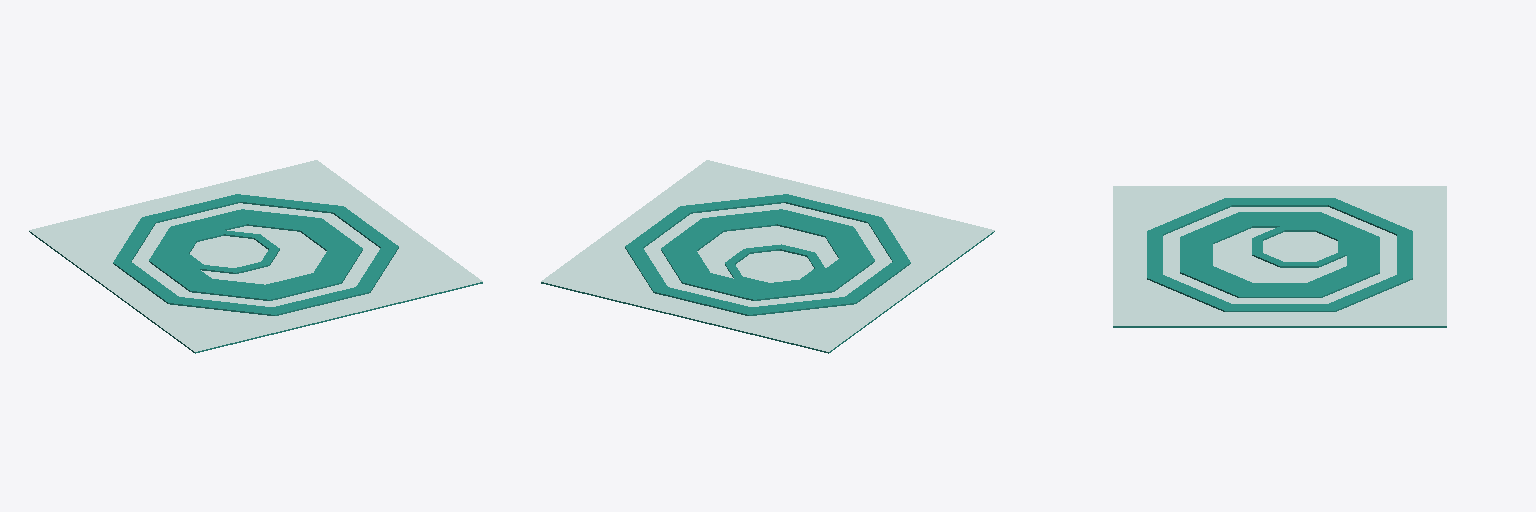
Rendered from Prop_Rug_Eclipse.obj.
3 views of the same model, side by side, from view 1: azimuth 30°, elevation 25°; view 2: azimuth 150°, elevation 25°; view 3: azimuth 270°, elevation 25° (orthographic).
Visible parts, largest first — view 1: object1; view 2: object1; view 3: object1.
Part boxes in pixels (left/top/right/bottom): object1: left=29, top=160, right=482, bottom=353; object1: left=541, top=160, right=994, bottom=353; object1: left=1113, top=186, right=1446, bottom=327.
Size of the model in its own units: 1 by 0.01 by 1.